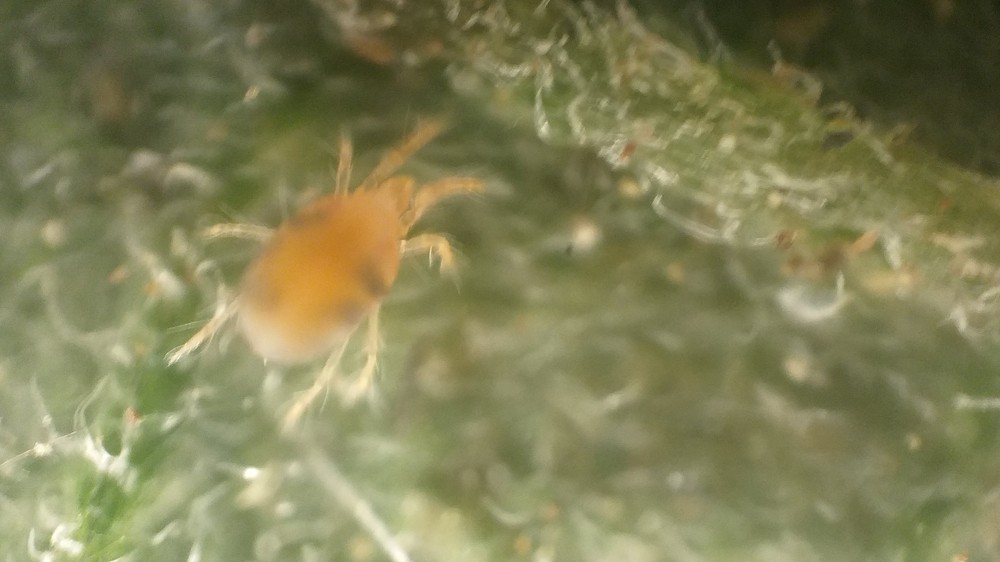Aracnido Rojo: (159, 107, 495, 443)
